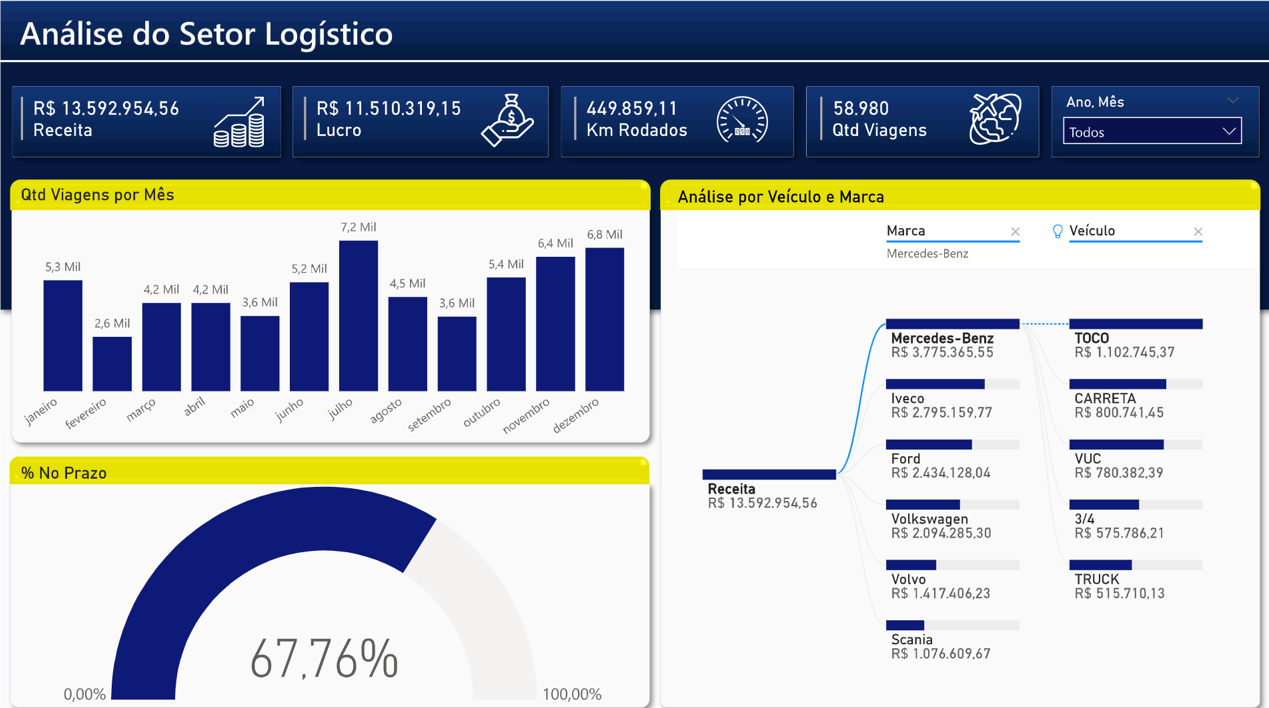

The page's visual inventory and layout, read from the dashboard file:
{"tool":"powerbi","page":{"name":"Dashboard","canvas":[1280,720],"ordinal":0},"visuals":[{"type":"multiRowCard","fields":{"Values":["BaseLogistica.Receita"]},"box":[18.1,92.9,244.9,144.8],"z":0},{"type":"multiRowCard","fields":{"Values":["BaseLogistica.Lucro"]},"box":[300.4,92.9,244.9,144.8],"z":1000},{"type":"multiRowCard","fields":{"Values":["BaseLogistica.Km Rodados"]},"box":[569.4,92.9,244.9,144.8],"z":2000},{"type":"multiRowCard","fields":{"Values":["BaseLogistica.Qtd Viagens"]},"box":[814.3,92.9,244.9,144.8],"z":3000},{"type":"image","box":[188.2,92.9,102.5,60.3],"z":4000},{"type":"image","box":[446.4,90.5,123.1,62.7],"z":5000},{"type":"image","box":[692.5,90.5,98.9,60.3],"z":6000},{"type":"image","box":[948.3,90.5,90.5,60.3],"z":7000},{"type":"columnChart","fields":{"Y":["BaseLogistica.Qtd Viagens"],"Category":["BaseLogistica.Data Entrega.Variation.Hierarquia de datas.Mês"]},"box":[18.1,184.6,631,272.7],"z":8000},{"type":"gauge","fields":{"Y":["BaseLogistica.% No Prazo"]},"box":[18.1,462.1,631,246.1],"z":9000},{"type":"decompositionTreeVisual","title":"Análise por Veículo e Marca","fields":{"Analyze":["BaseLogistica.Receita"],"ExplainBy":["BaseLogistica.Marca","BaseLogistica.Veículo"]},"box":[672,187,587.5,533.2],"z":10000},{"type":"slicer","fields":{"Values":["BaseLogistica.Data Entrega.Variation.Hierarquia de datas.Ano","BaseLogistica.Data Entrega.Variation.Hierarquia de datas.Mês"]},"box":[1050.8,90.5,197.9,62.7],"z":11000}]}

Visuals, with their boxes in screenshot pixels (x1, y1, x2, y2), scaled from the page's 1280x720 canvas onto the 1269x708 screenshot:
multiRowCard - BaseLogistica.Receita: detection(18, 91, 261, 234)
multiRowCard - BaseLogistica.Lucro: detection(298, 91, 541, 234)
multiRowCard - BaseLogistica.Km Rodados: detection(565, 91, 807, 234)
multiRowCard - BaseLogistica.Qtd Viagens: detection(807, 91, 1050, 234)
image: detection(187, 91, 288, 151)
image: detection(443, 89, 565, 151)
image: detection(687, 89, 785, 148)
image: detection(940, 89, 1030, 148)
columnChart - BaseLogistica.Qtd Viagens x BaseLogistica.Data Entrega.Variation.Hierarquia de datas.Mês: detection(18, 182, 644, 450)
gauge - BaseLogistica.% No Prazo: detection(18, 454, 644, 696)
"Análise por Veículo e Marca" decompositionTreeVisual: detection(666, 184, 1249, 707)
slicer - BaseLogistica.Data Entrega.Variation.Hierarquia de datas.Ano x BaseLogistica.Data Entrega.Variation.Hierarquia de datas.Mês: detection(1042, 89, 1238, 151)
